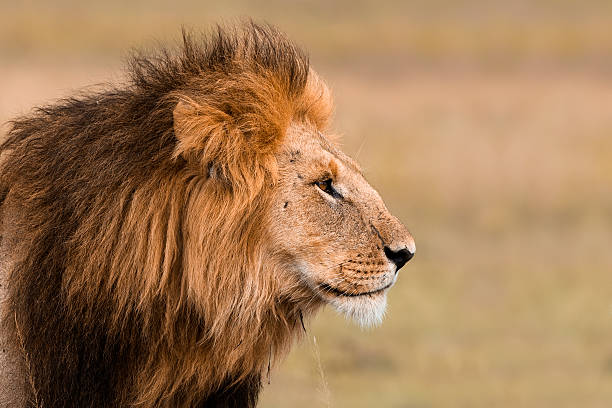lion: (72, 13, 420, 404)
